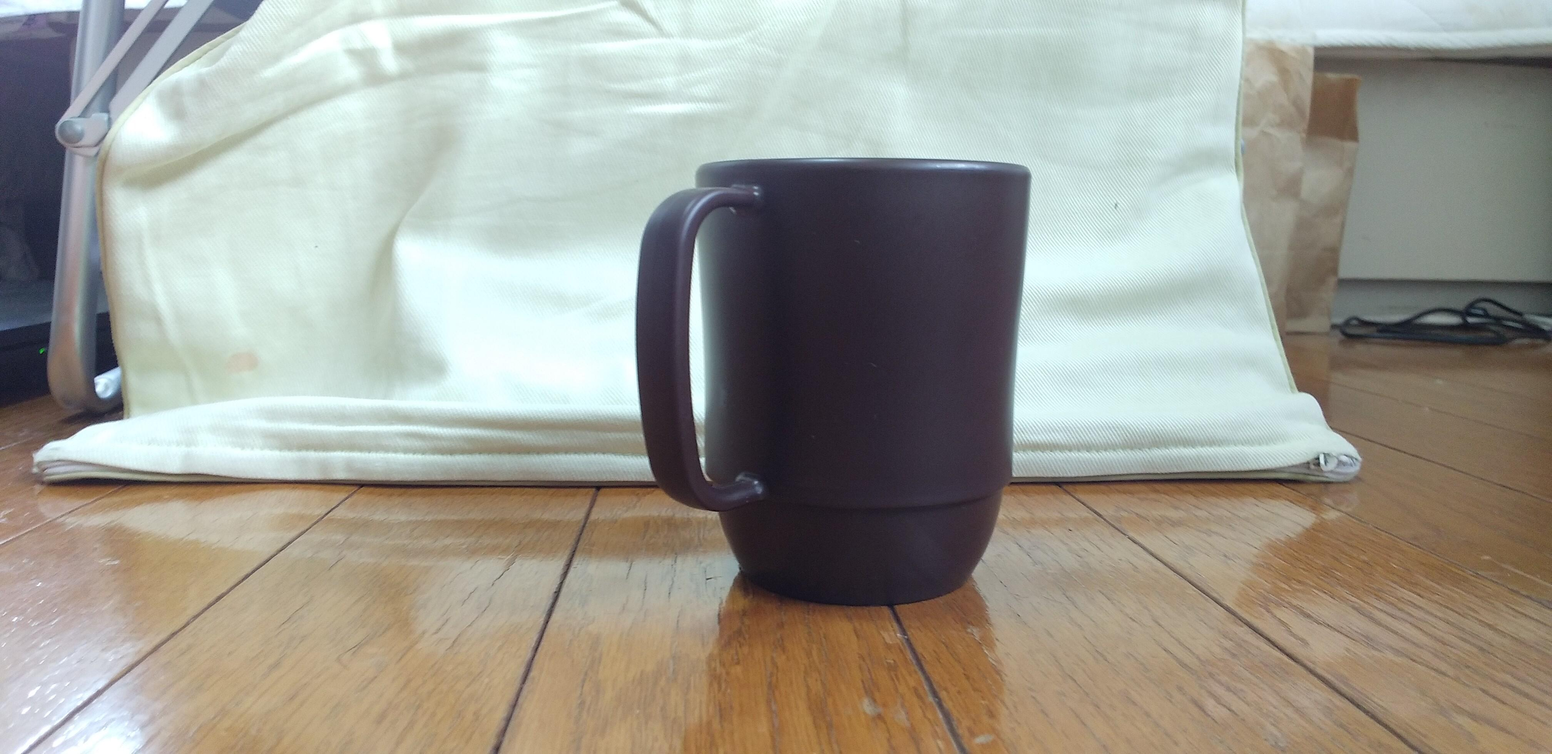mug-real100-3d100: (636, 158, 1030, 605)
